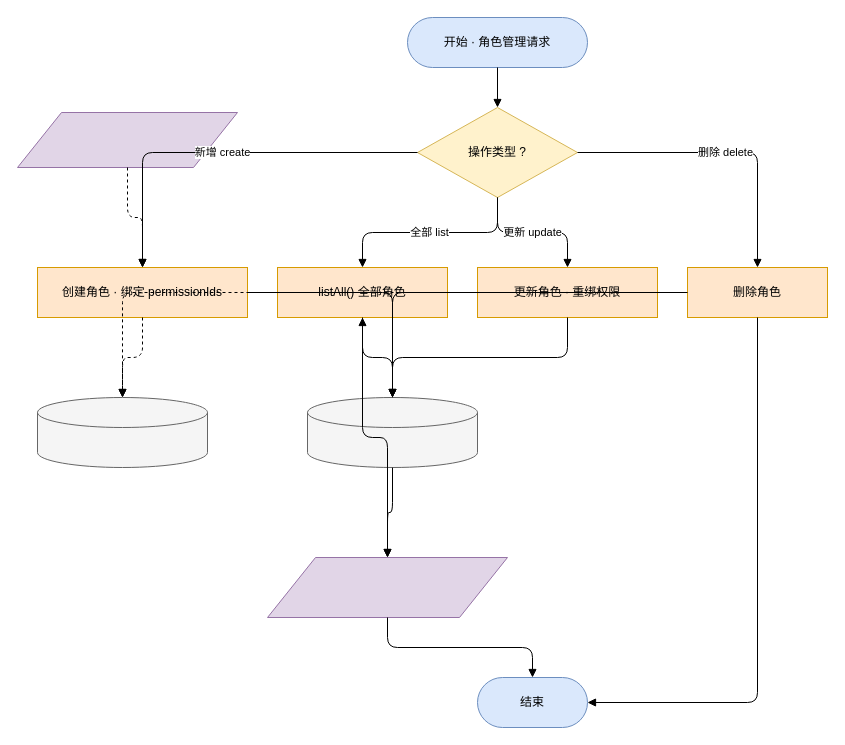
Image size: 845x745. Some labels were removed from this diagram. The shapes that lost their labels are listed below. From the top down, each one's box as (x1, y1, x2, y2) in pixels, then its label:
(16, 112, 238, 168): CreateRoleDTO name·code·permissionIds
(36, 396, 208, 468): 角色-权限关联表
(306, 396, 478, 468): sys.sys_role 角色实体表
(266, 556, 508, 618): RoleVO 输出 (含 permissionIds)
